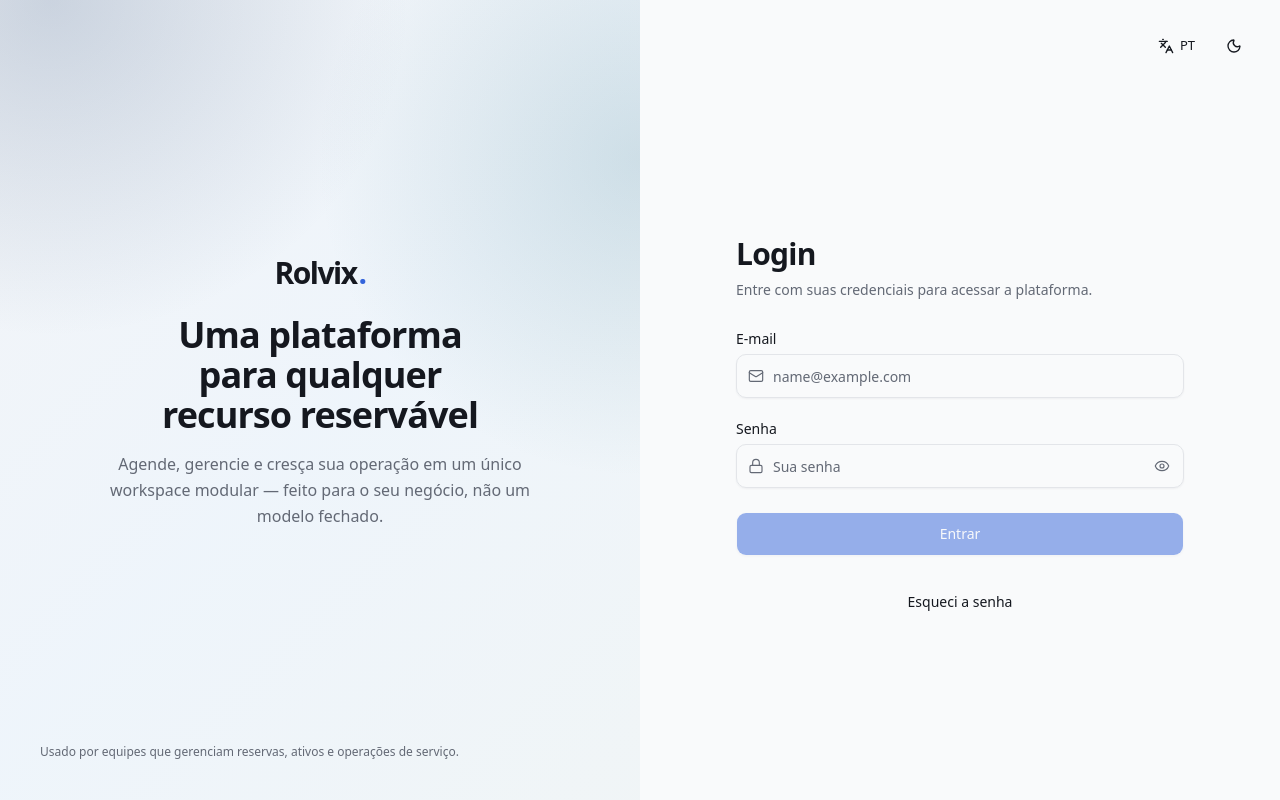
it: LoginPage tenant selector › announces loading while the tenant list is pending
Type "admin@clube.com" into the field labelled "E-mail" at (960, 376), box [736, 354, 1184, 398]
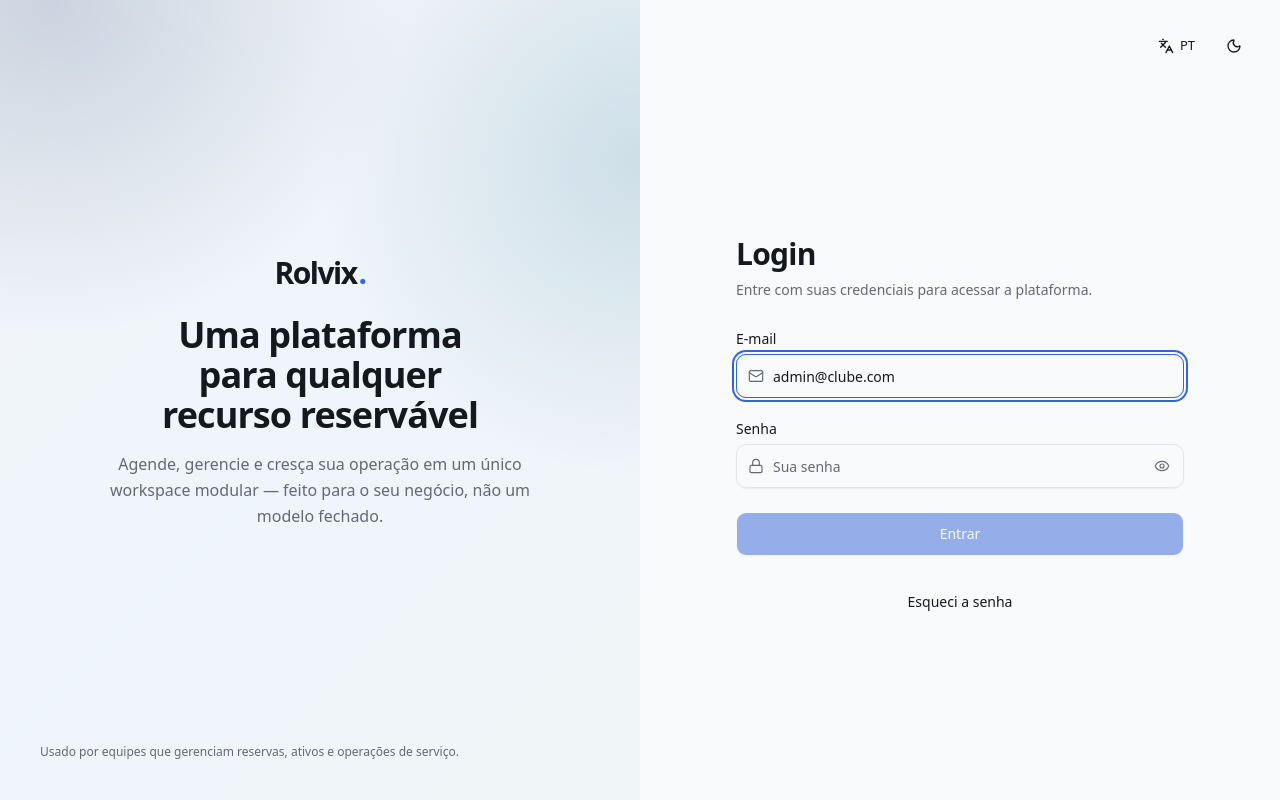
Type "password1" into the password field labelled "Senha" at (960, 466), box [736, 444, 1184, 488]
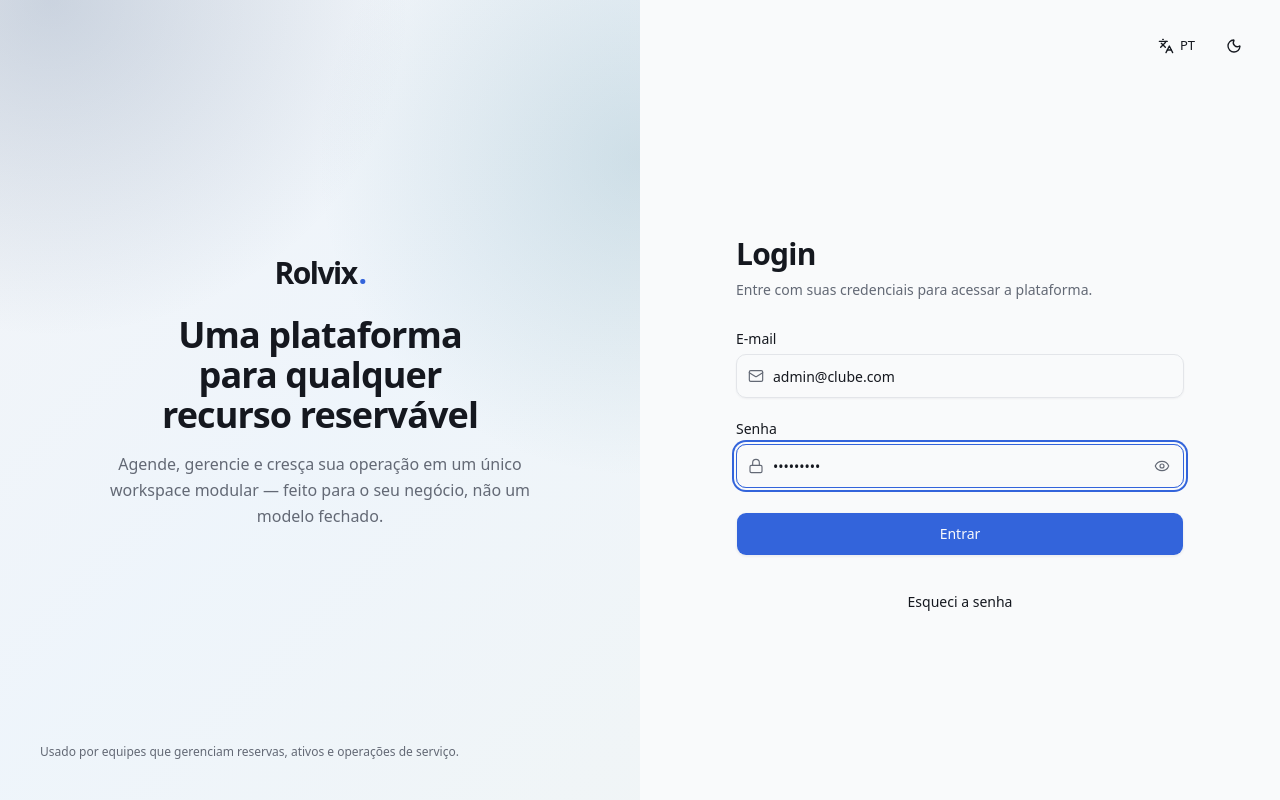
Click the button "Entrar" at (960, 534), box [736, 512, 1184, 556]
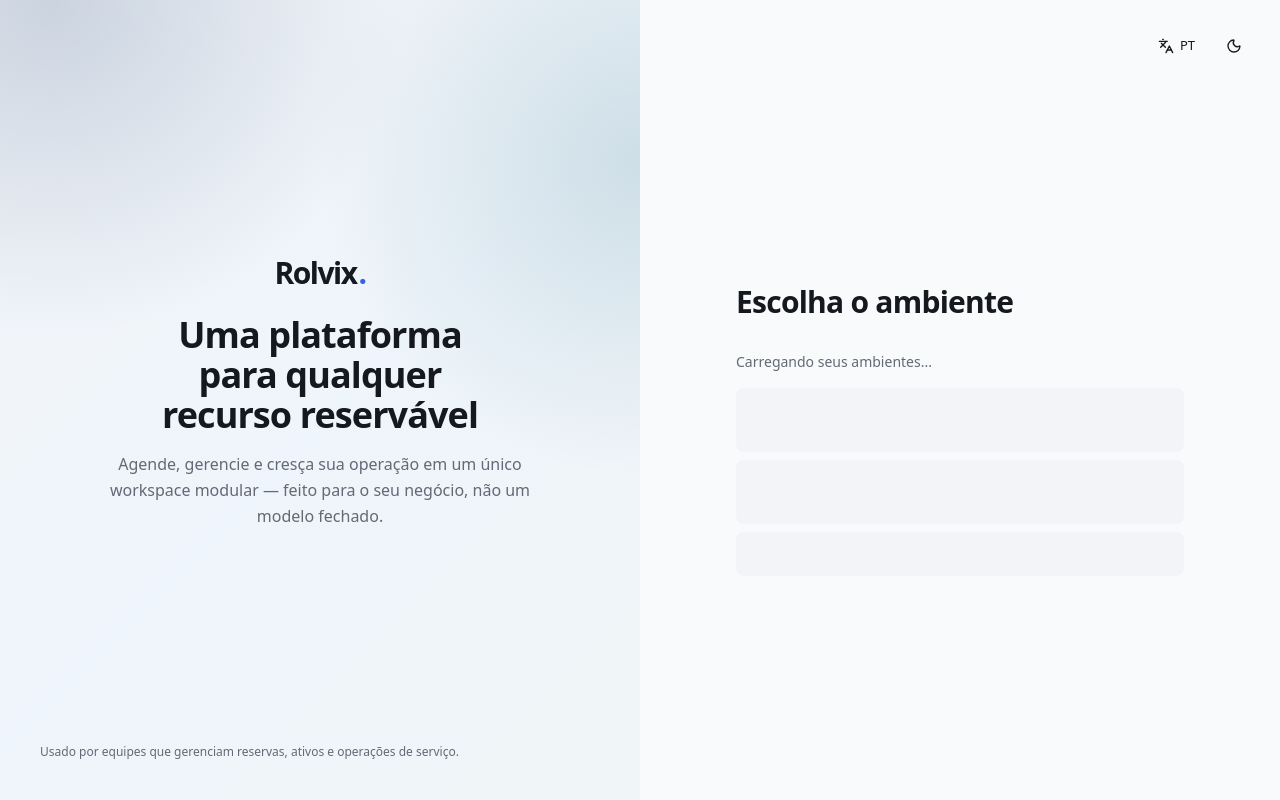
Check: the message reads "Carregando seus ambientes...", box [736, 352, 932, 371]
